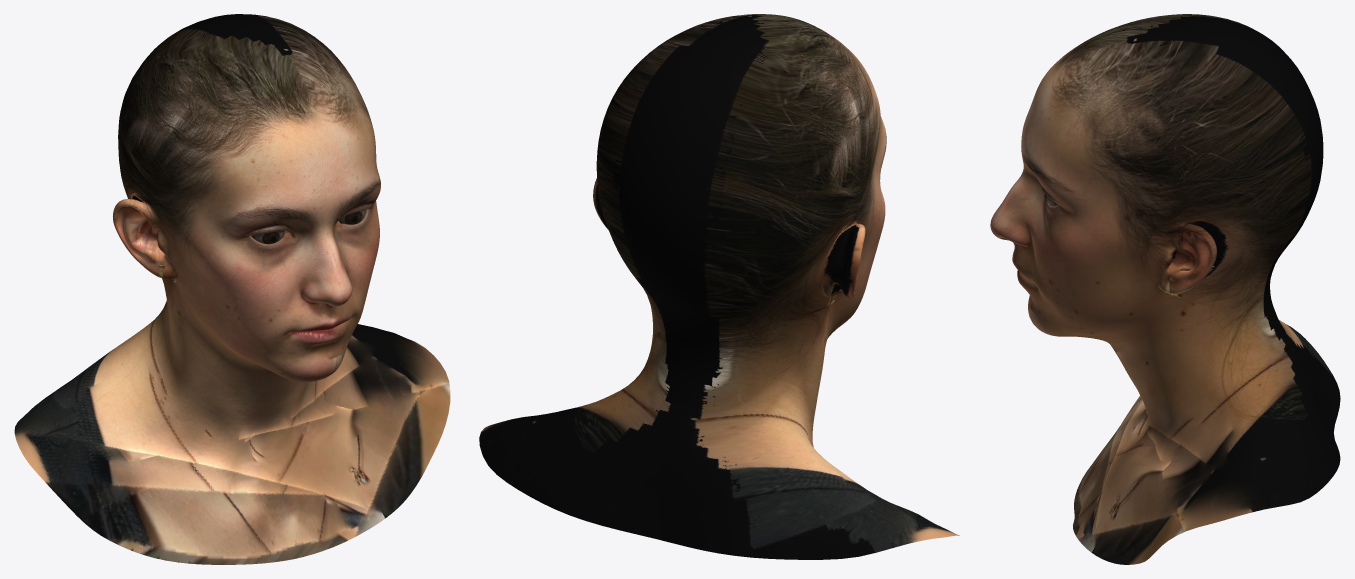
Rendered from guide-model.glb.
The picture shows the model from 3 angles, left to right: view 1: azimuth 30°, elevation 25°; view 2: azimuth 150°, elevation 25°; view 3: azimuth 270°, elevation 25°; orthographic projection. The views are drawn at different scales.
Visible parts, largest first — view 1: mesh; view 2: mesh; view 3: mesh.
Boxes of the visible parts, left/top/right/bottom form: mesh: left=14, top=14, right=450, bottom=564; mesh: left=479, top=14, right=959, bottom=559; mesh: left=990, top=14, right=1340, bottom=564.
Bounding box in the file's own units: 3.11 × 3.54 × 2.28.
Materials: 4 (4 with a texture image).
